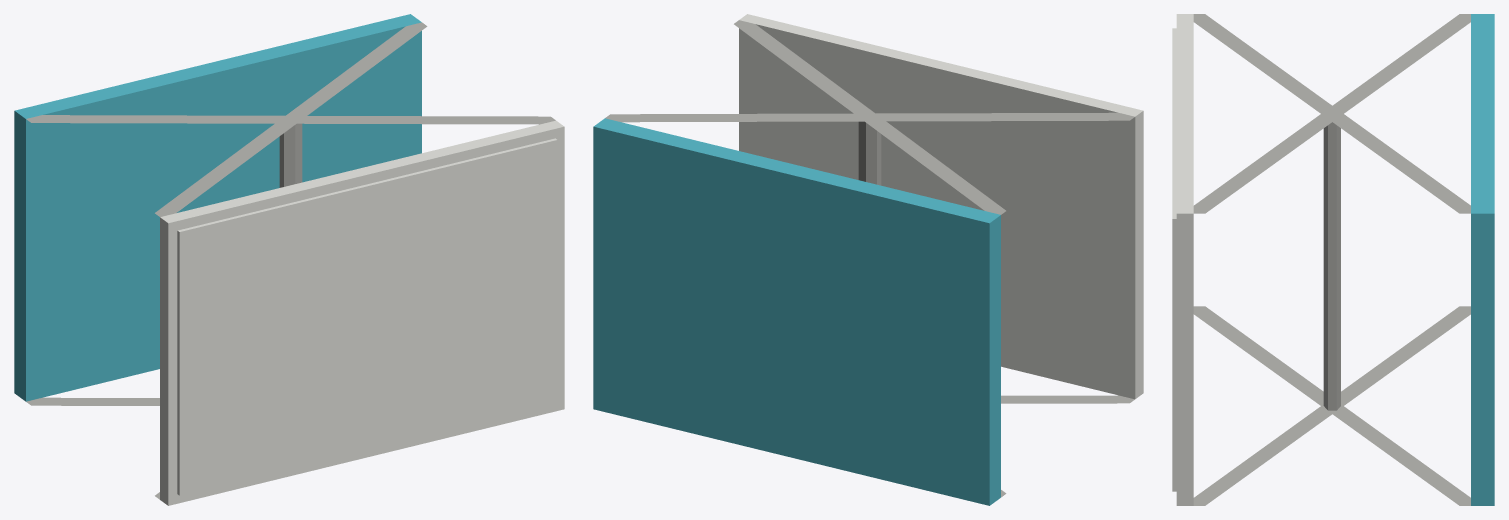
Rendered from lift_table_up.dae.
The picture shows the model from 3 angles, left to right: view 1: azimuth 30°, elevation 25°; view 2: azimuth 150°, elevation 25°; view 3: azimuth 270°, elevation 25°; orthographic projection. The views are drawn at different scales.
Parts seen in each view (by area): view 1: instance_0_005, instance_0_003, instance_0_004, instance_0_001, instance_0, instance_0_006; view 2: instance_0_003, instance_0_004, instance_0_001, instance_0, instance_0_006; view 3: instance_0_003, instance_0_001, instance_0_004, instance_0_006, instance_0, instance_0_005.
Part boxes in pixels (box(x1,y1,x2,y2)): instance_0_005: box(177, 138, 557, 495); instance_0_003: box(14, 14, 421, 401); instance_0_004: box(160, 120, 564, 505); instance_0_001: box(26, 22, 555, 216); instance_0: box(279, 123, 302, 187); instance_0_006: box(26, 397, 159, 499); instance_0_003: box(593, 118, 1000, 505); instance_0_004: box(739, 14, 1143, 399); instance_0_001: box(605, 20, 1134, 214); instance_0: box(858, 121, 881, 185); instance_0_006: box(1001, 395, 1134, 497); instance_0_003: box(1471, 14, 1494, 505); instance_0_001: box(1193, 14, 1470, 213); instance_0_004: box(1176, 14, 1193, 505); instance_0_006: box(1193, 306, 1470, 505); instance_0: box(1323, 122, 1340, 410); instance_0_005: box(1172, 28, 1176, 491).
Size of the model in its own units: 866 by 591 by 591.
